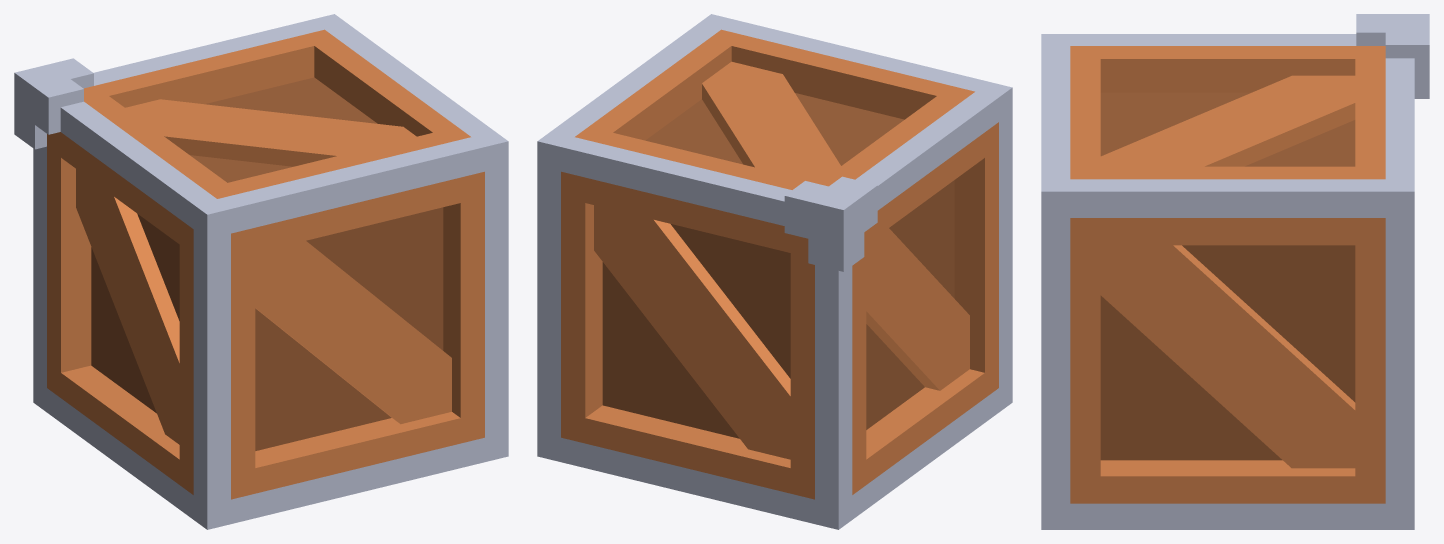
Rendered from crateStrong.dae.
The picture shows the model from 3 angles, left to right: view 1: azimuth 30°, elevation 25°; view 2: azimuth 150°, elevation 25°; view 3: azimuth 270°, elevation 25°; orthographic projection. The views are drawn at different scales.
Parts seen in each view (by area): view 1: crateStrong; view 2: crateStrong; view 3: crateStrong.
Boxes of the visible parts, <box> form: crateStrong: <box>14,14,508,529</box>; crateStrong: <box>537,14,1012,529</box>; crateStrong: <box>1041,14,1429,529</box>.
Bounding box in the file's own units: 0.52 × 0.52 × 0.52.
